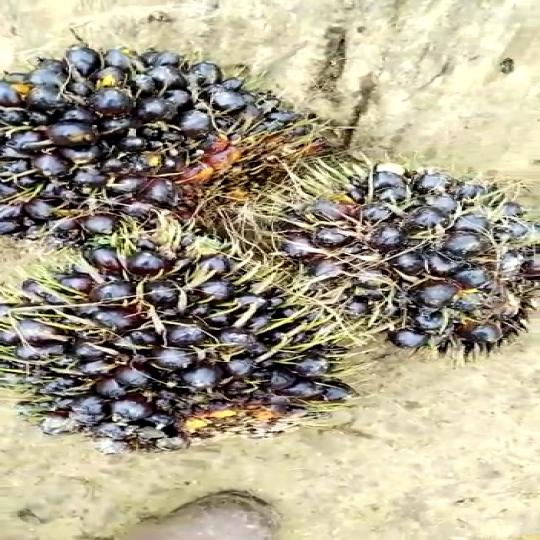mentah: (0, 232, 374, 455), (0, 34, 307, 240), (280, 159, 540, 351)
